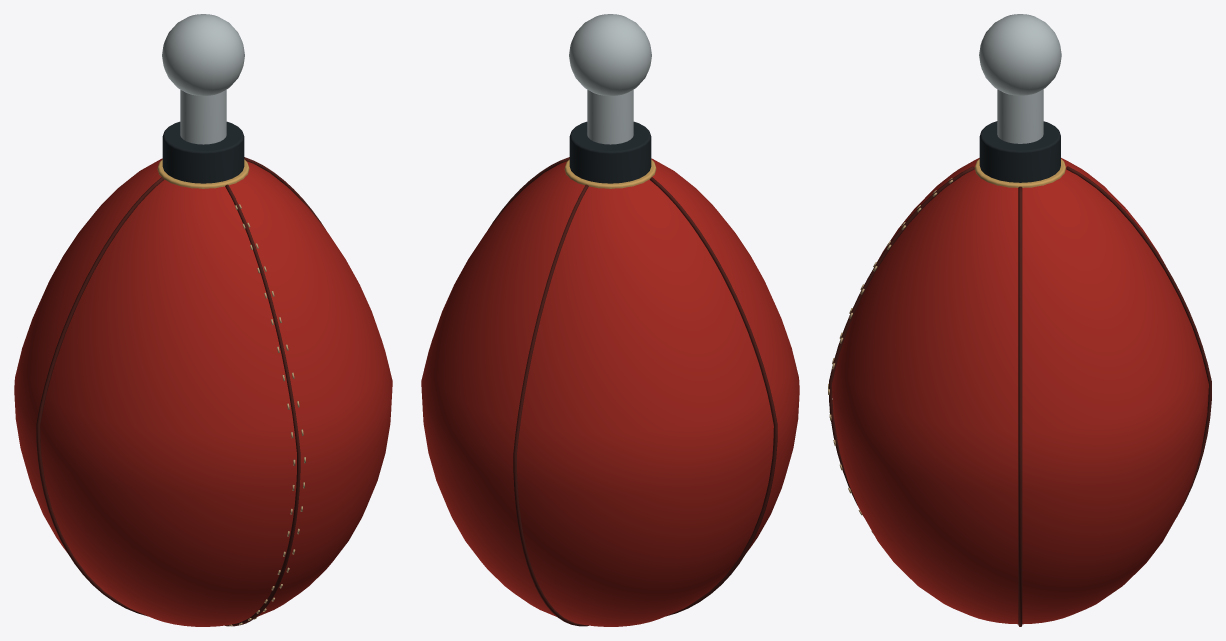
Rendered from machine-arm.glb.
3 views of the same model, side by side, from view 1: azimuth 30°, elevation 25°; view 2: azimuth 150°, elevation 25°; view 3: azimuth 270°, elevation 25° (orthographic).
Parts seen in each view (by area): view 1: machine-arm_Leather_Oxblood, machine-arm_Brushed_Nickel, machine-arm_Leather_Seam, machine-arm_Rubber_Graphite, machine-arm_Aged_Brass, machine-arm_Waxed_Linen_Stitch; view 2: machine-arm_Leather_Oxblood, machine-arm_Brushed_Nickel, machine-arm_Leather_Seam, machine-arm_Rubber_Graphite, machine-arm_Aged_Brass; view 3: machine-arm_Leather_Oxblood, machine-arm_Brushed_Nickel, machine-arm_Leather_Seam, machine-arm_Rubber_Graphite, machine-arm_Aged_Brass.
Boxes of the visible parts, bbox=[...] form: machine-arm_Leather_Oxblood: bbox=[14, 158, 392, 626]; machine-arm_Brushed_Nickel: bbox=[162, 14, 244, 144]; machine-arm_Leather_Seam: bbox=[36, 157, 325, 626]; machine-arm_Rubber_Graphite: bbox=[162, 121, 244, 183]; machine-arm_Aged_Brass: bbox=[157, 159, 249, 188]; machine-arm_Waxed_Linen_Stitch: bbox=[229, 204, 305, 626]; machine-arm_Leather_Oxblood: bbox=[421, 158, 799, 626]; machine-arm_Brushed_Nickel: bbox=[569, 14, 651, 144]; machine-arm_Leather_Seam: bbox=[488, 157, 777, 626]; machine-arm_Rubber_Graphite: bbox=[569, 121, 651, 183]; machine-arm_Aged_Brass: bbox=[564, 159, 656, 188]; machine-arm_Leather_Oxblood: bbox=[832, 158, 1208, 624]; machine-arm_Brushed_Nickel: bbox=[979, 14, 1061, 143]; machine-arm_Leather_Seam: bbox=[829, 166, 1211, 626]; machine-arm_Rubber_Graphite: bbox=[979, 121, 1060, 182]; machine-arm_Aged_Brass: bbox=[974, 159, 1065, 187].
Bounding box in the file's own units: 0.5278 × 0.9045 × 0.529.
